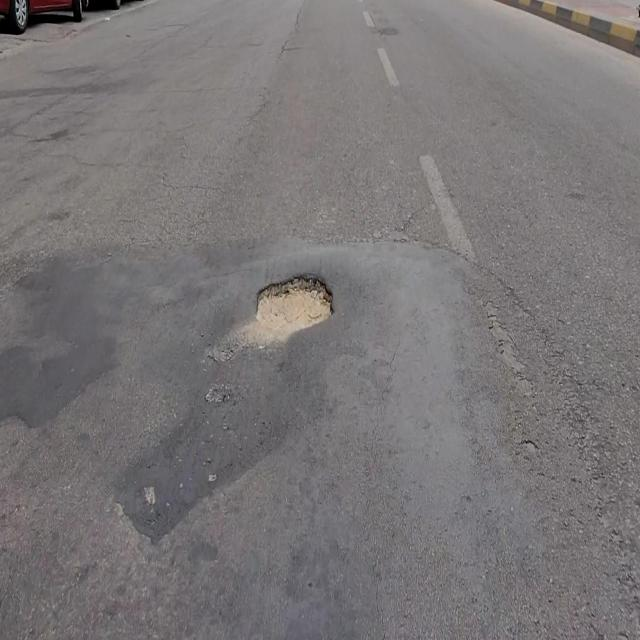Potholes: (254, 268, 336, 345)
